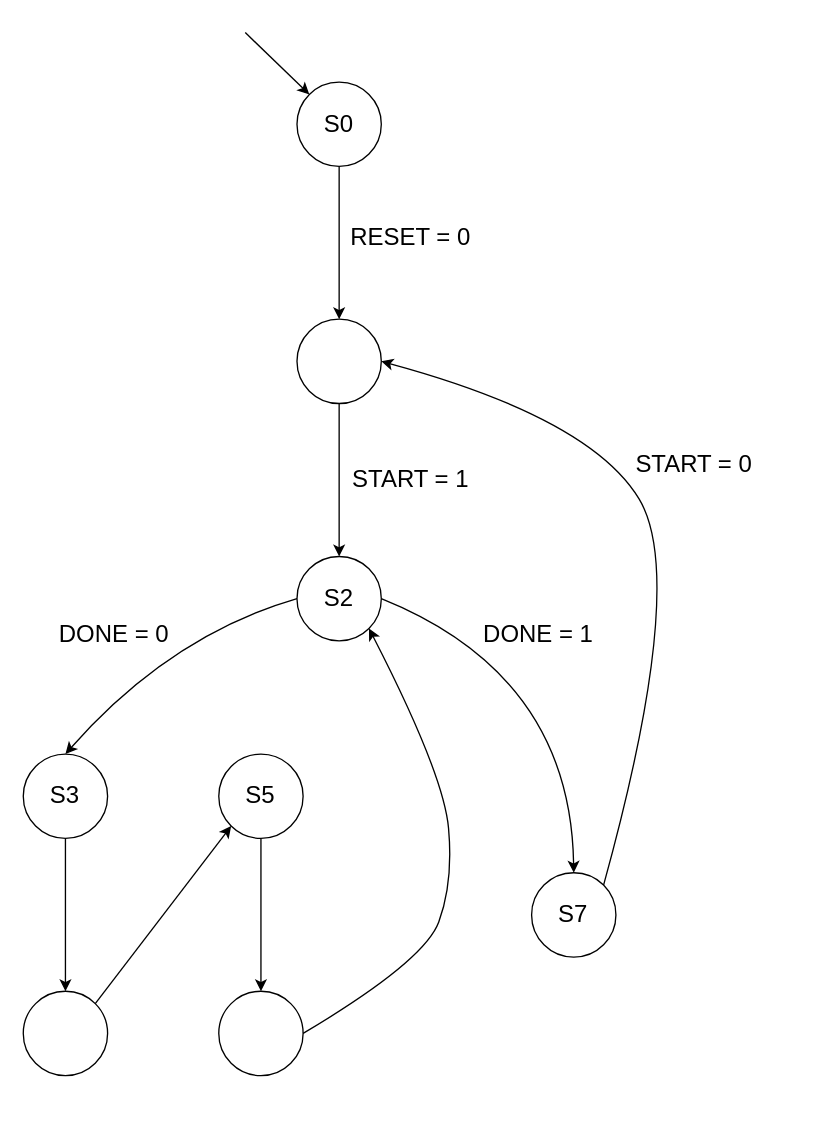
Some shapes in this 818 by 1133 pixel diagram are drawn without their labels. Here are the shapes that lost their labels. From the top down, the centre of each, then its label:
pixel 338 361: S1
pixel 65 1033: S4
pixel 260 1033: S6
